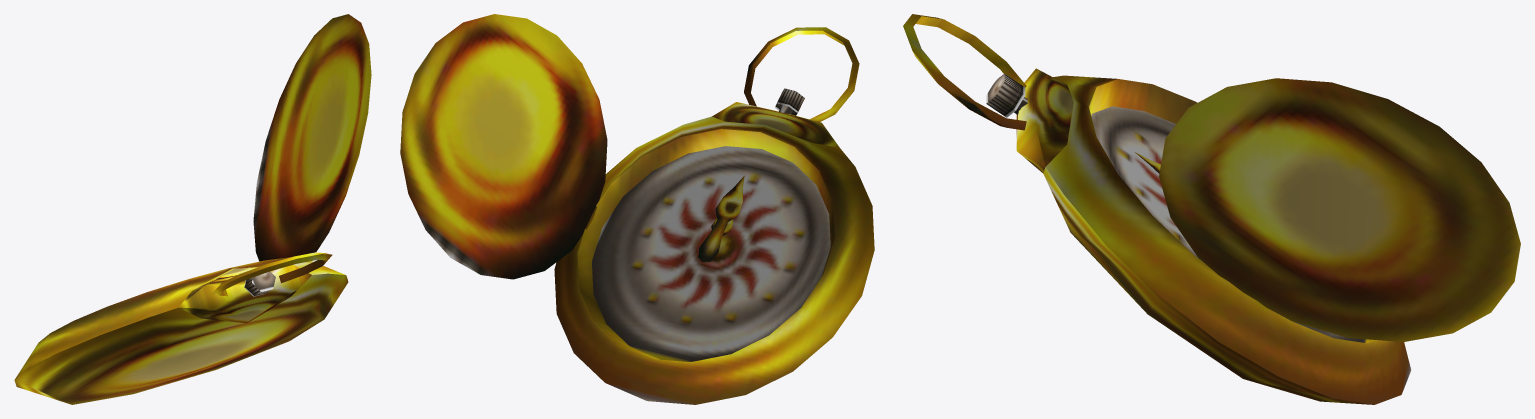
Rendered from copy.ico.obj.
3 renders of one model, left to right at view 1: azimuth 30°, elevation 25°; view 2: azimuth 150°, elevation 25°; view 3: azimuth 270°, elevation 25°, orthographic. The views are drawn at different scales.
Bounding box in the file's own units: 3.09 × 2.47 × 3.15.
Materials: 1 (1 with a texture image).
